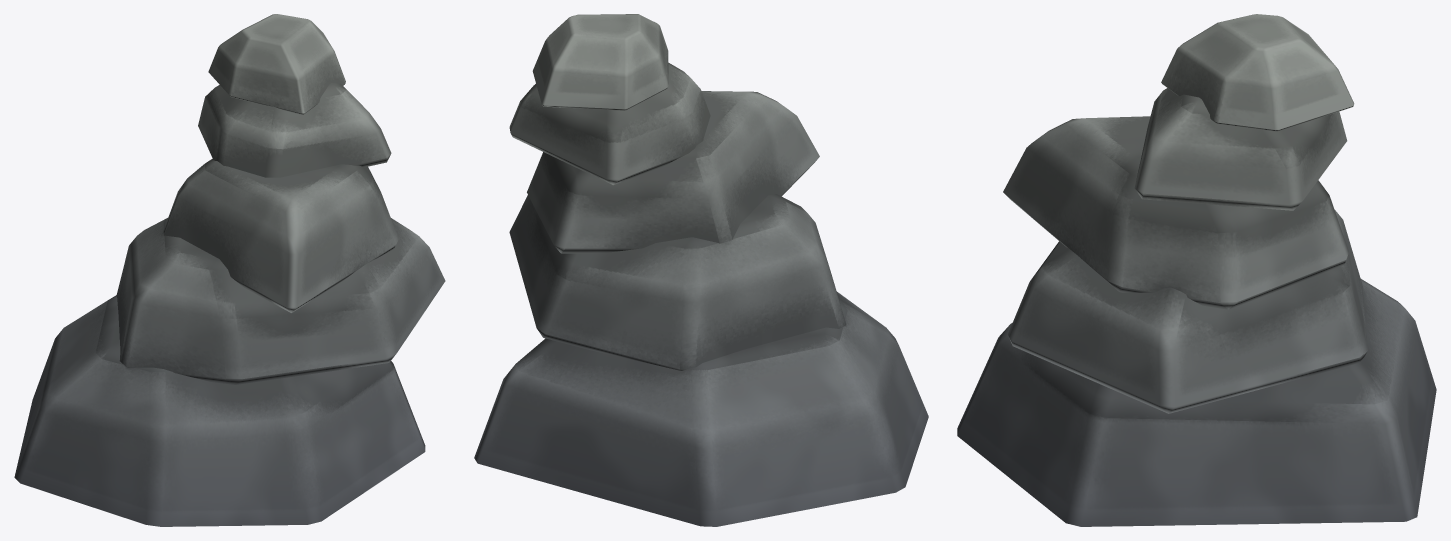
The model's file is stack_2.glb.
The picture shows the model from 3 angles, left to right: view 1: azimuth 30°, elevation 25°; view 2: azimuth 150°, elevation 25°; view 3: azimuth 270°, elevation 25°; orthographic projection. The views are drawn at different scales.
Visible parts, largest first — view 1: stack_2; view 2: stack_2; view 3: stack_2.
Part boxes in pixels (left/top/right/bottom): stack_2: left=14, top=14, right=445, bottom=526; stack_2: left=474, top=14, right=928, bottom=526; stack_2: left=957, top=14, right=1436, bottom=526.
Bounding box in the file's own units: 1.2 × 1.1 × 1.05.
Materials: 1 (1 with a texture image).
